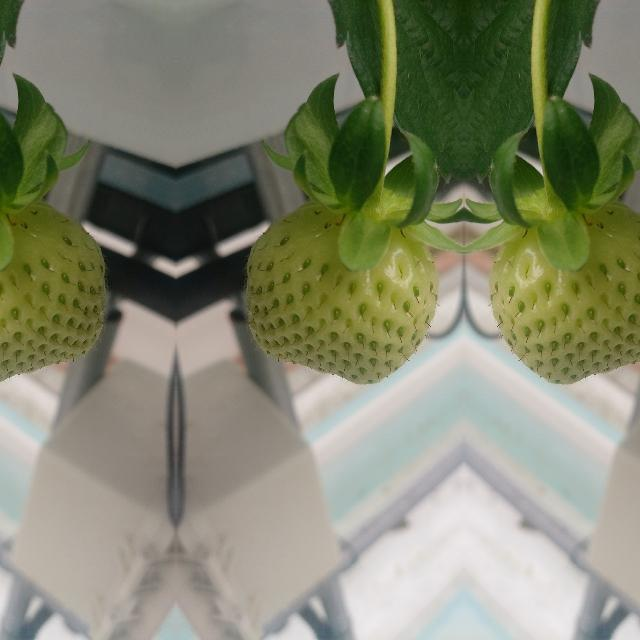Health_25: (246, 200, 438, 384), (487, 200, 640, 383), (0, 200, 104, 383)
